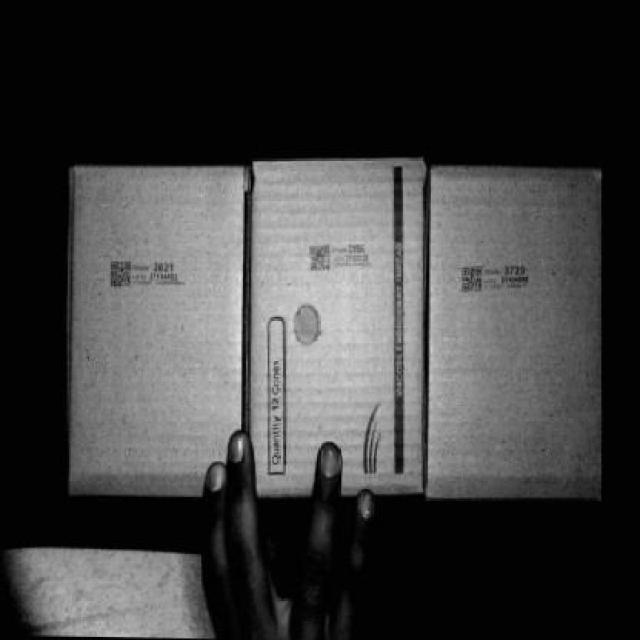cardboxes: (253, 161, 433, 507), (67, 169, 247, 488), (432, 167, 605, 496)
